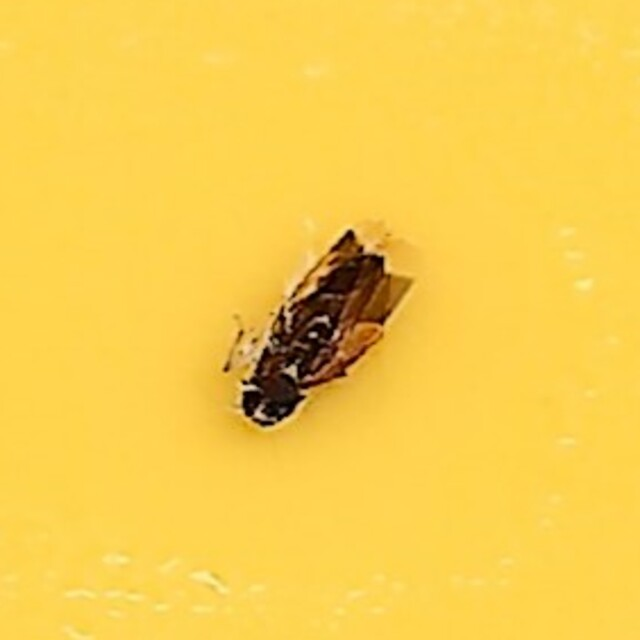Hemiptera: (227, 213, 413, 427)
